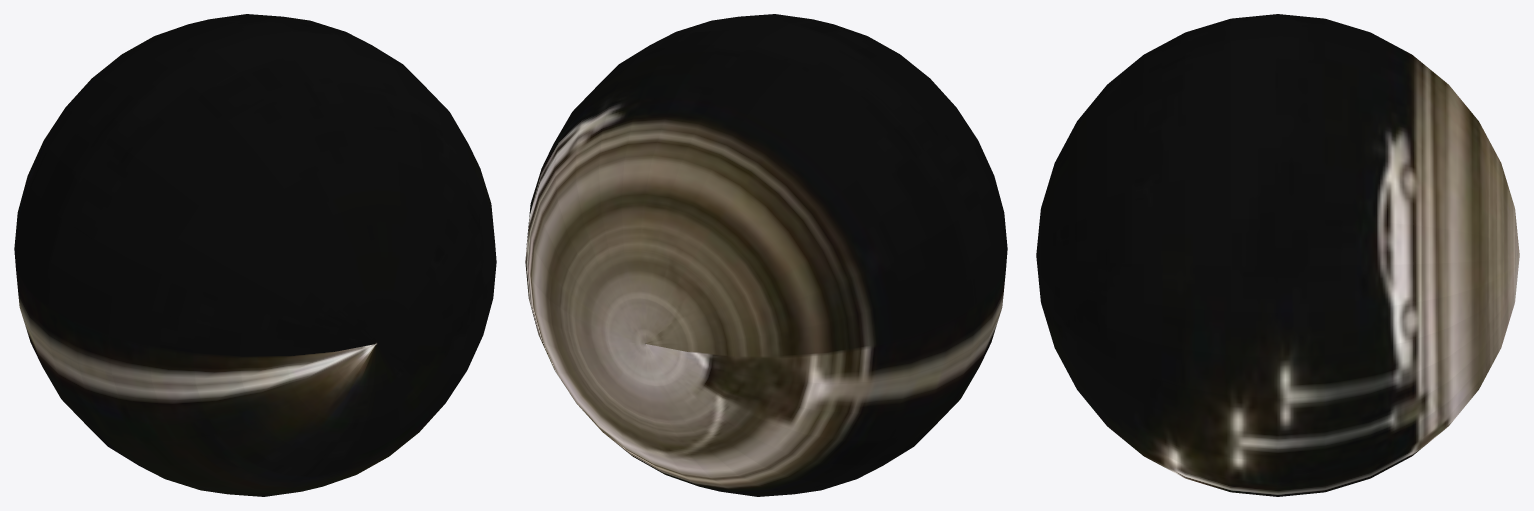
Rendered from juggernaut1.glb.
3 renders of one model, left to right at view 1: azimuth 30°, elevation 25°; view 2: azimuth 150°, elevation 25°; view 3: azimuth 270°, elevation 25°, orthographic.
Parts seen in each view (by area): view 1: Sphere.092; view 2: Sphere.092; view 3: Sphere.092.
Part boxes in pixels (x1=…): Sphere.092: x1=14, y1=14, x2=496, y2=496; Sphere.092: x1=525, y1=14, x2=1007, y2=496; Sphere.092: x1=1036, y1=14, x2=1519, y2=496.
Size of the model in its own units: 8042 by 8042 by 8042.
12 materials, 12 textured.
